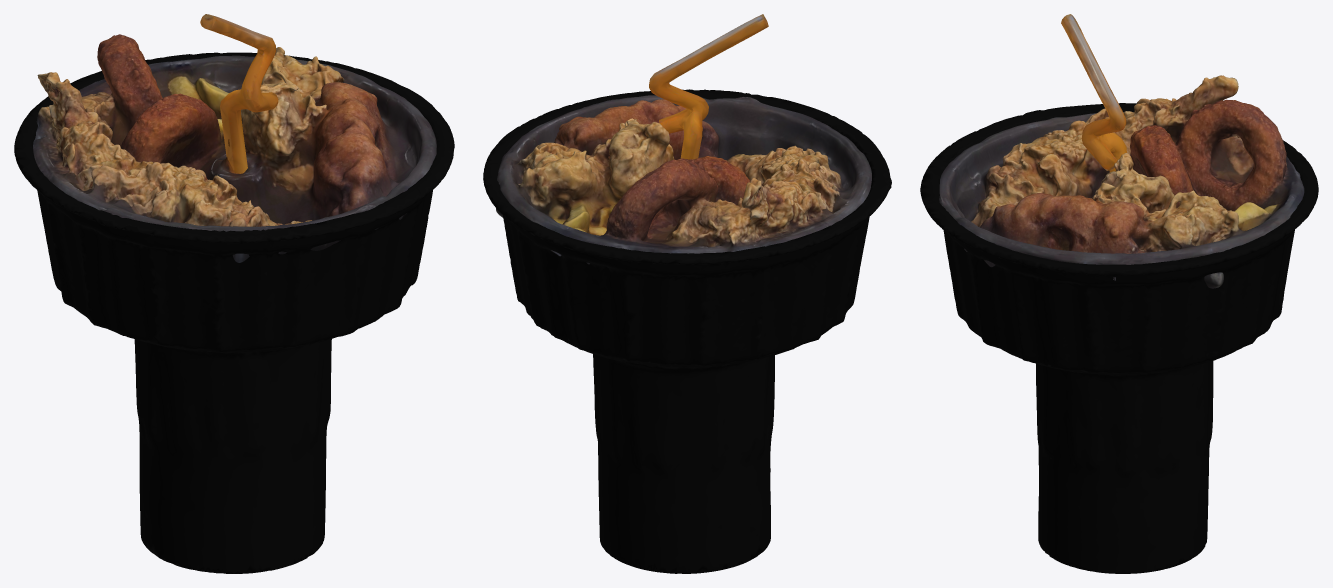
The model's file is combo4.glb.
3 renders of one model, left to right at view 1: azimuth 30°, elevation 25°; view 2: azimuth 150°, elevation 25°; view 3: azimuth 270°, elevation 25°, orthographic. The views are drawn at different scales.
Parts seen in each view (by area): view 1: model.002, 3DModel, model.001; view 2: model.002, 3DModel, model.001; view 3: model.002, 3DModel, model.001.
Part boxes in pixels (x1,y1,x2,y2): model.002: [14, 52, 454, 573]; 3DModel: [33, 34, 436, 262]; model.001: [200, 14, 278, 173]; model.002: [483, 89, 891, 573]; 3DModel: [496, 95, 871, 264]; model.001: [649, 14, 768, 159]; model.002: [920, 103, 1318, 573]; 3DModel: [939, 75, 1304, 288]; model.001: [1061, 14, 1126, 172].
Bounding box in the file's own units: 0.1896 × 0.2639 × 0.1898.
Materials: 3 (2 with a texture image).
